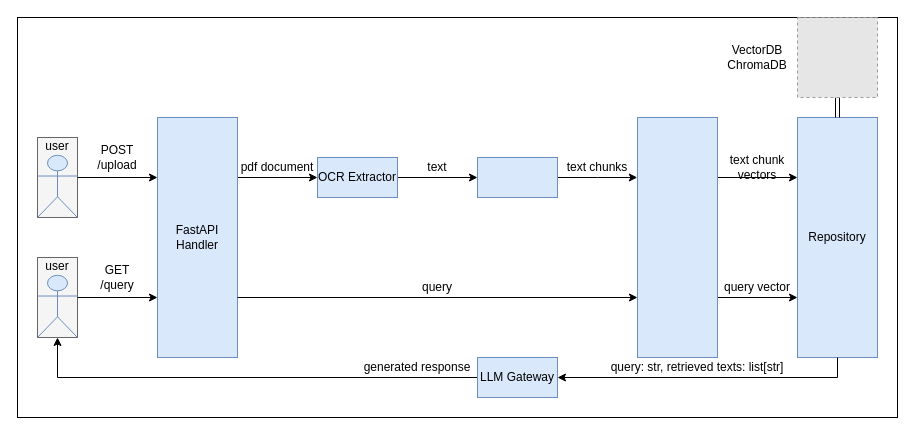
This 915x435 diagram has some shape labels left out. Grey dashed boxes stand in for pictures. The shapes that lost their labels are listed below. From the top down, each one's box as (x1, y1, x2, y2) in pixels, then its label:
(476, 156, 558, 198): Chunker
(636, 116, 718, 358): Embeder
